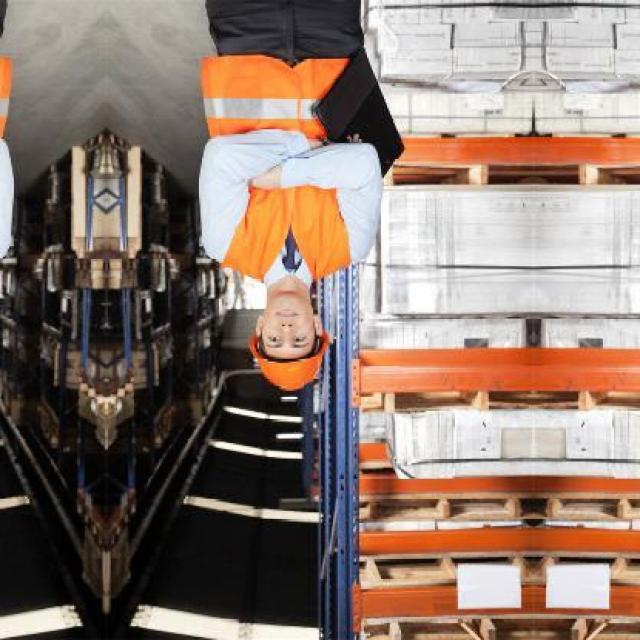safetyhelmet: (250, 307, 326, 393)
